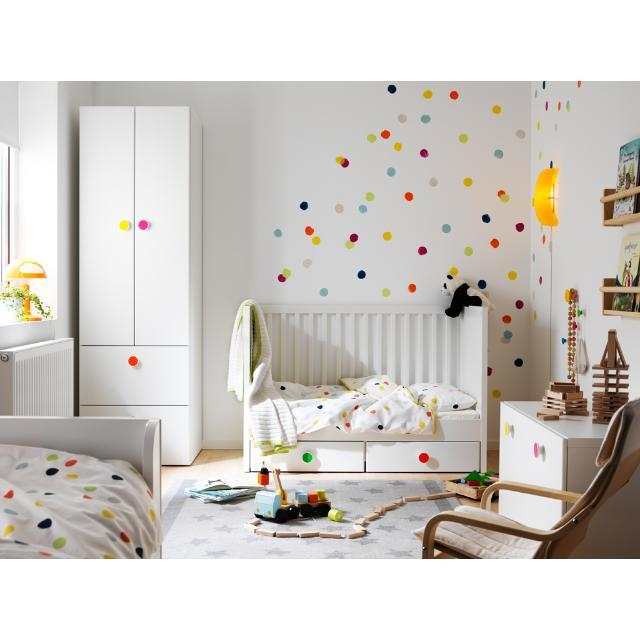chair: (412, 398, 639, 558)
dresser: (80, 106, 201, 464), (500, 402, 608, 493), (571, 466, 640, 558), (499, 492, 570, 528)
lamp: (534, 167, 559, 227)
rug: (162, 477, 459, 558), (260, 480, 444, 534)
